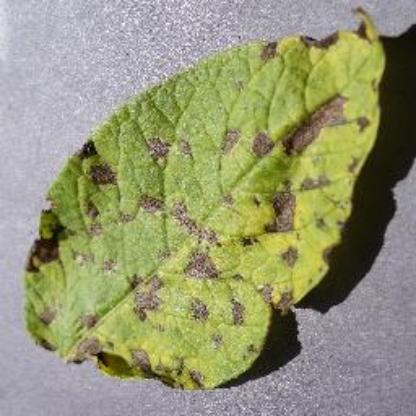Early-Blight: (23, 4, 390, 390)
